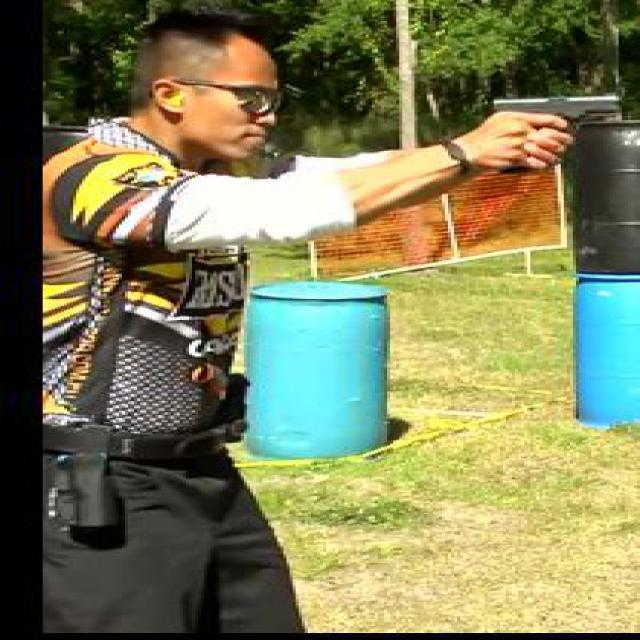gun: (478, 92, 622, 168)
